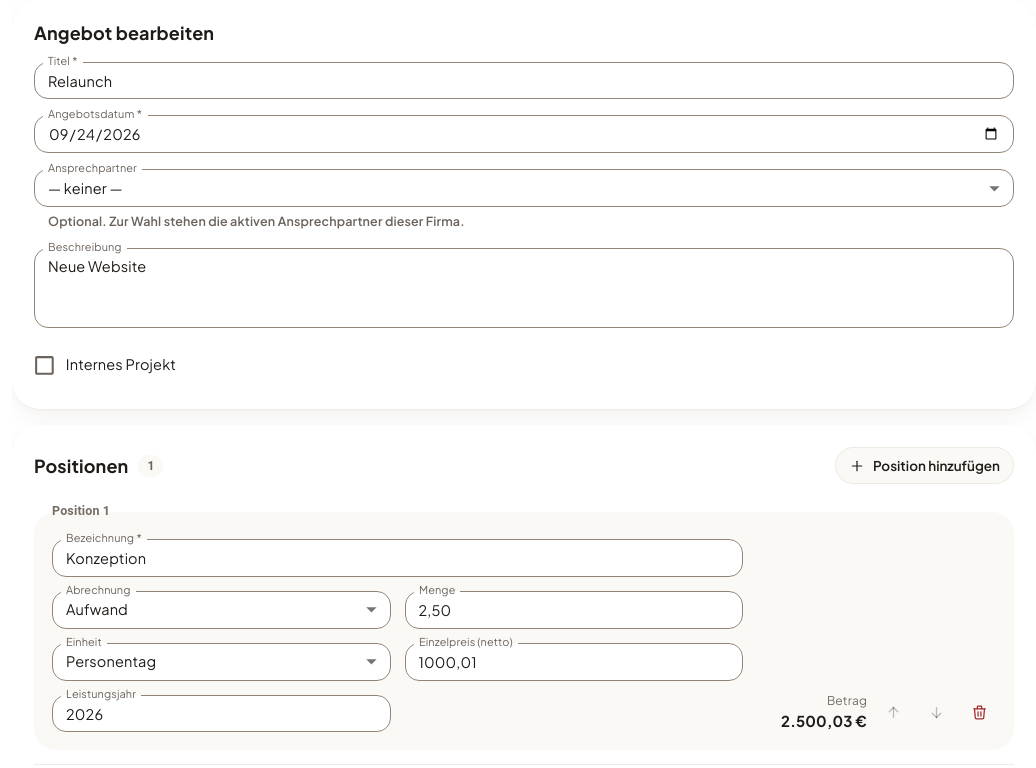
Test case: AngebotMaske — das Angebot bearbeiten (Issue #127, Kriterium 5) › schickt Datum, Ansprechpartner, Beschreibung und die Liste in der gezeigten Reihenfolge (E8)
The image size is (1036, 768).
Type "2026-09-25" into the date field labelled "Angebotsdatum *" at coordinates (524, 134), box [34,115,1014,153]
Select "Eva Adler" in the dropdown labelled "Ansprechpartner" at coordinates (524, 188), box [34,169,1014,207]
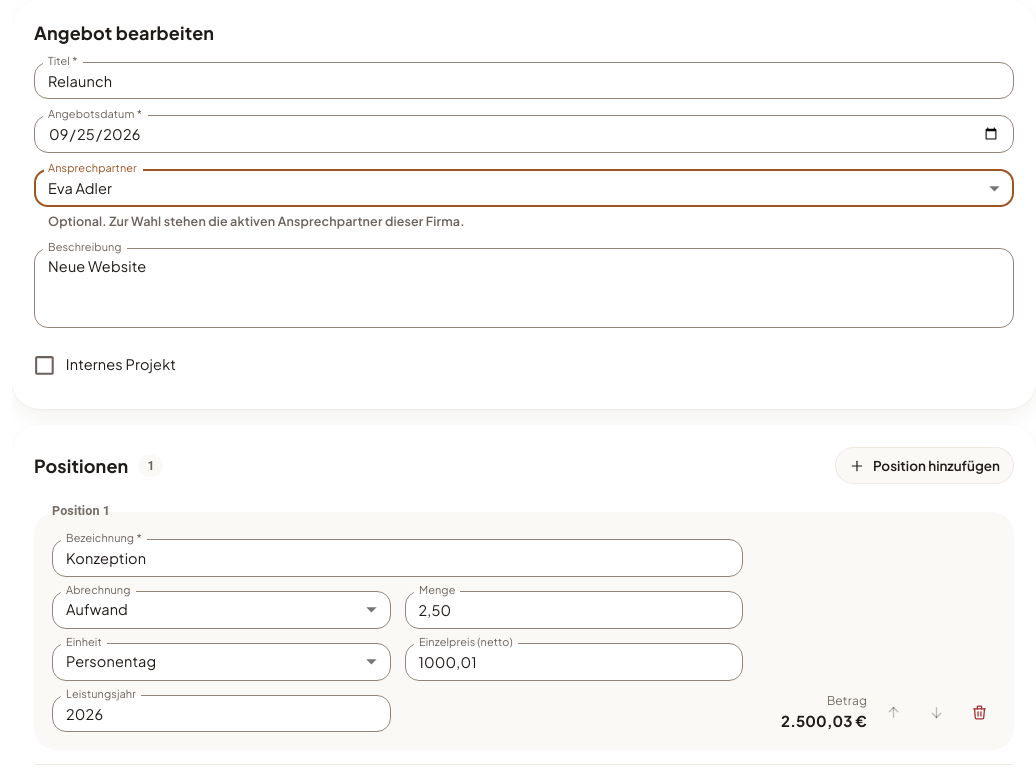
Click the button "Position hinzufügen" at coordinates (924, 466), box [835,447,1014,484]
(page scrolled)
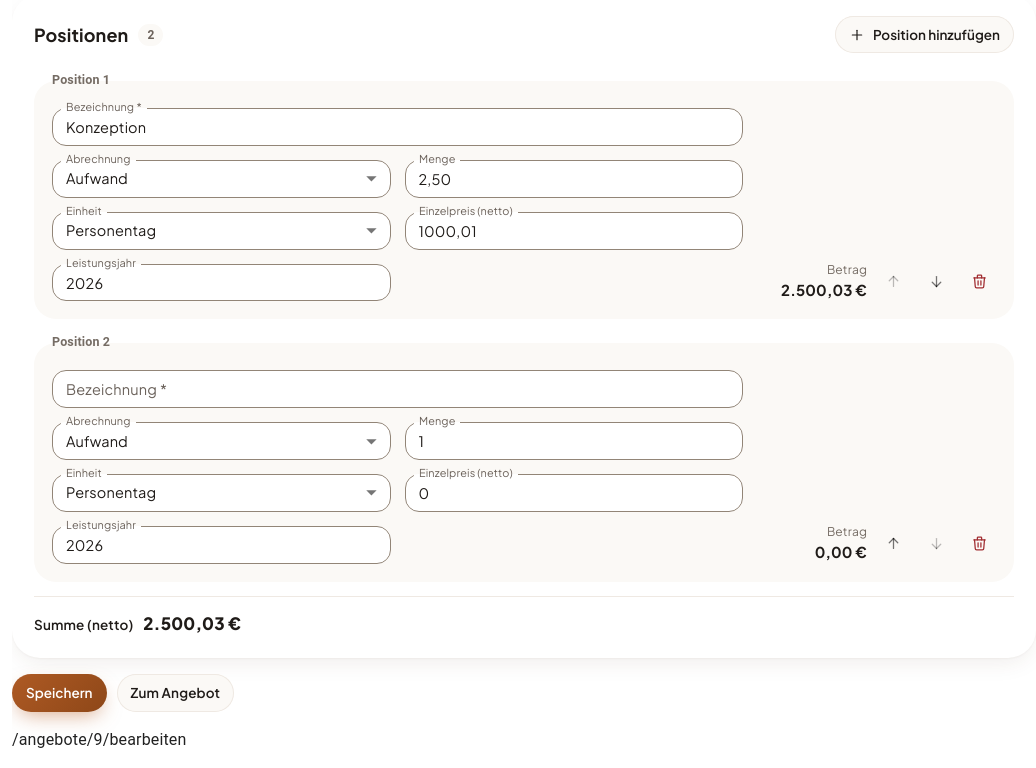
Type "Betreuung" into the field labelled "Bezeichnung" below "Position 2" at coordinates (398, 389), box [52,370,743,408]
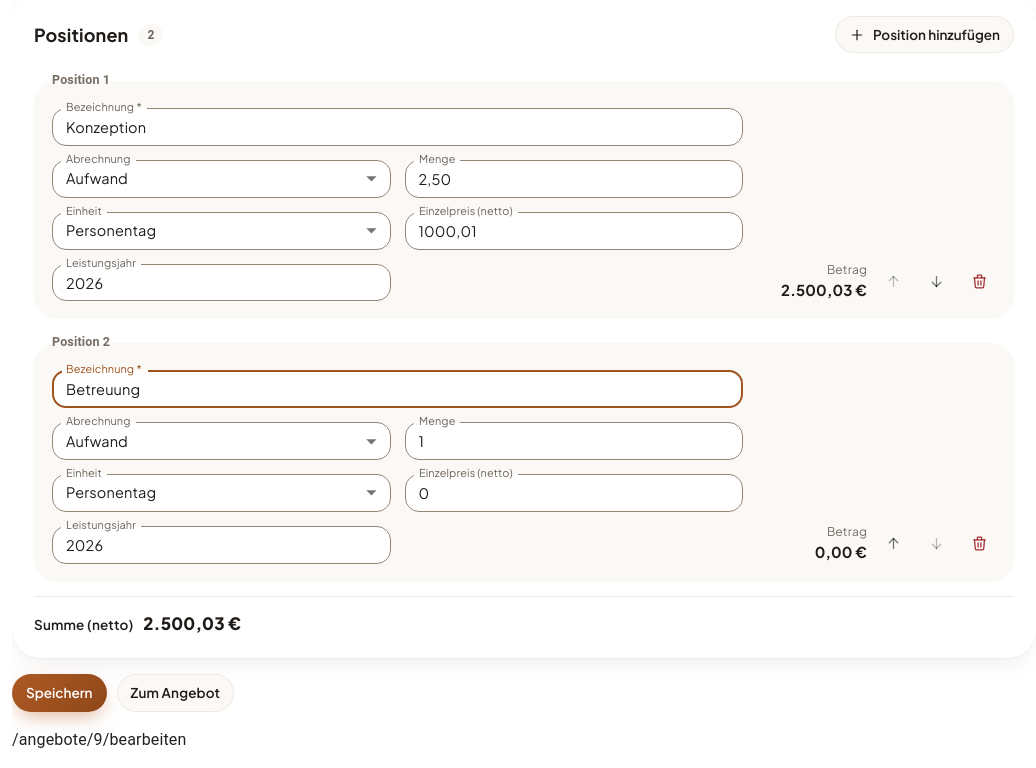
Select "Festpreis" in the dropdown labelled "Abrechnung" below "Position 2" at coordinates (221, 441), box [52,422,390,460]
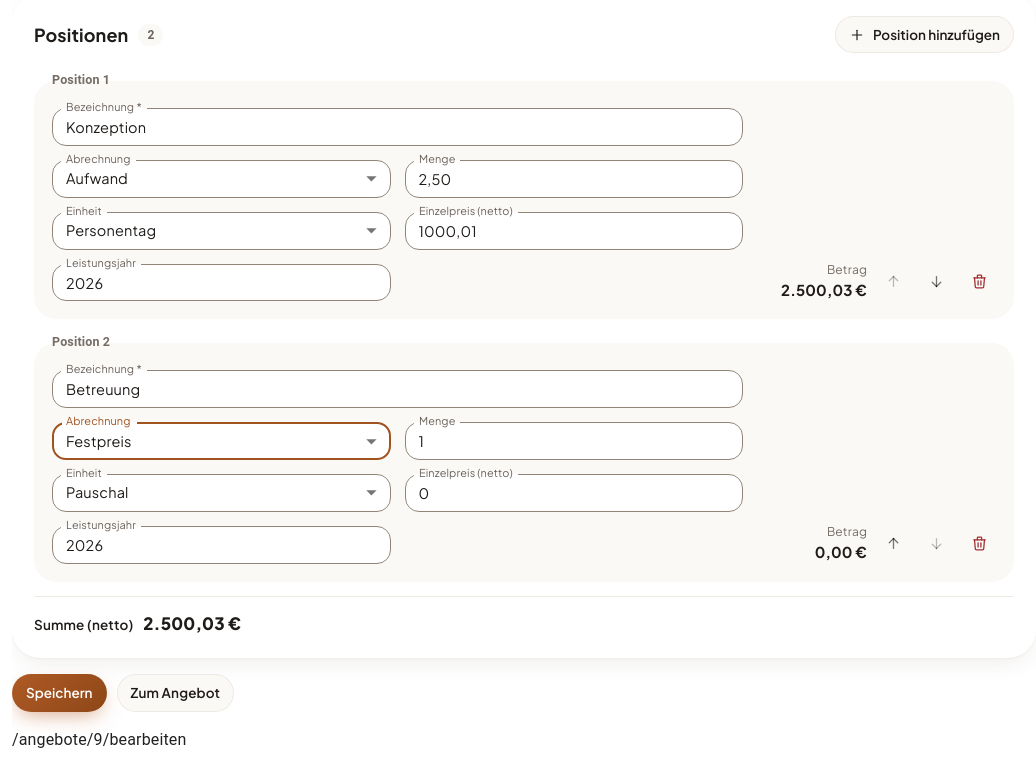
Click the button named "Position 2 nach oben" at coordinates (894, 543), box [877,527,910,560]
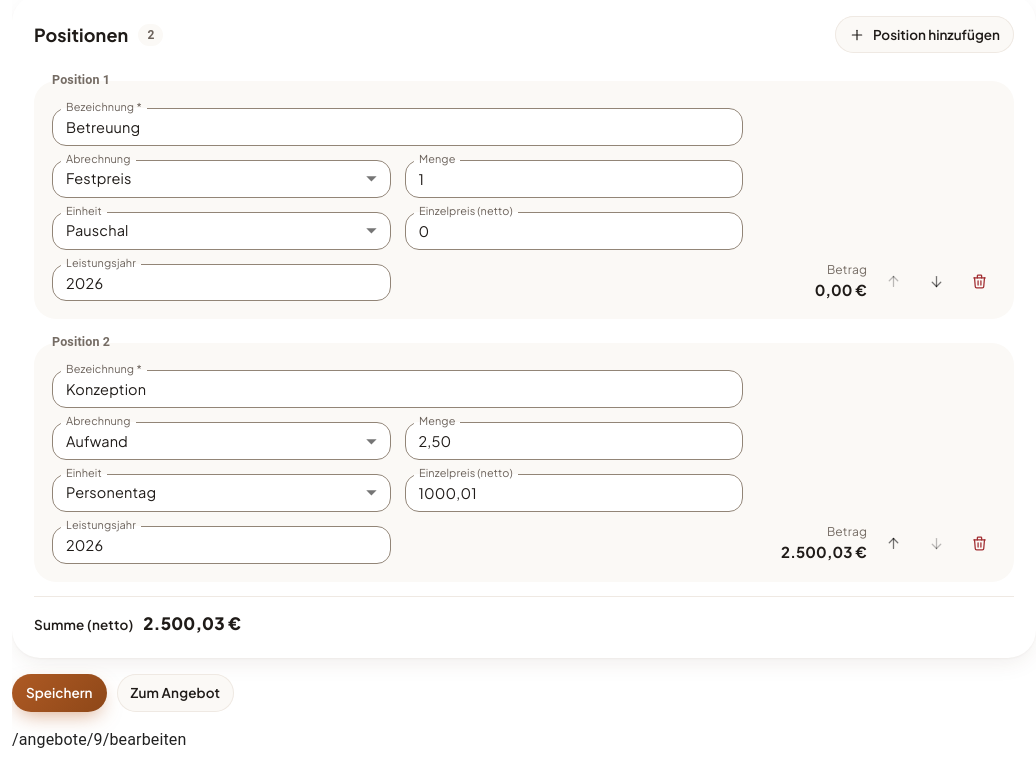
Click the button "Speichern" at coordinates (59, 693), box [12,674,106,712]
(page scrolled)
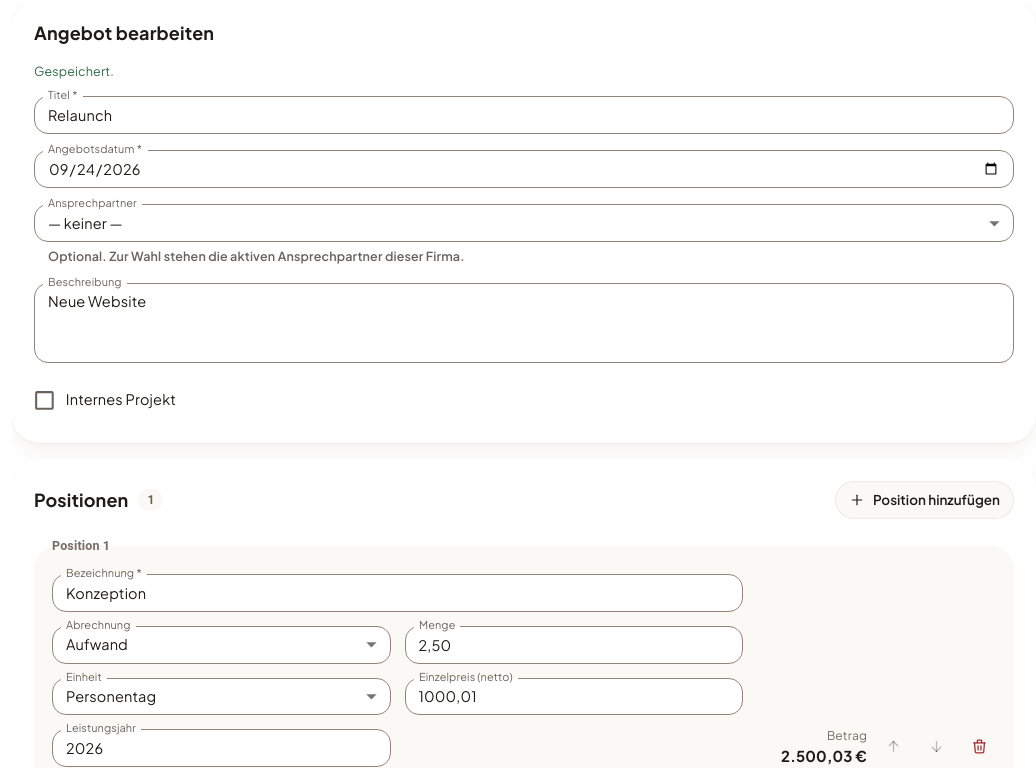
Check: the message "Gespeichert." is shown, box [34,63,114,79]
